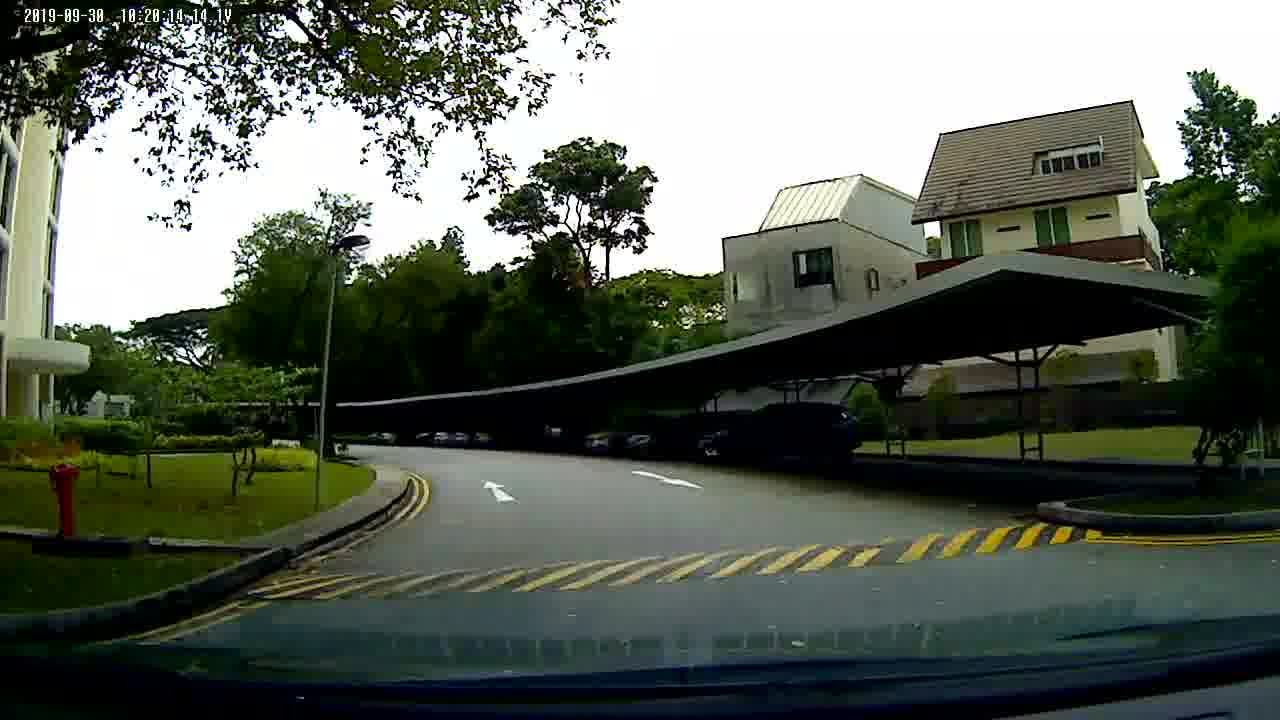car: (690, 404, 866, 468)
